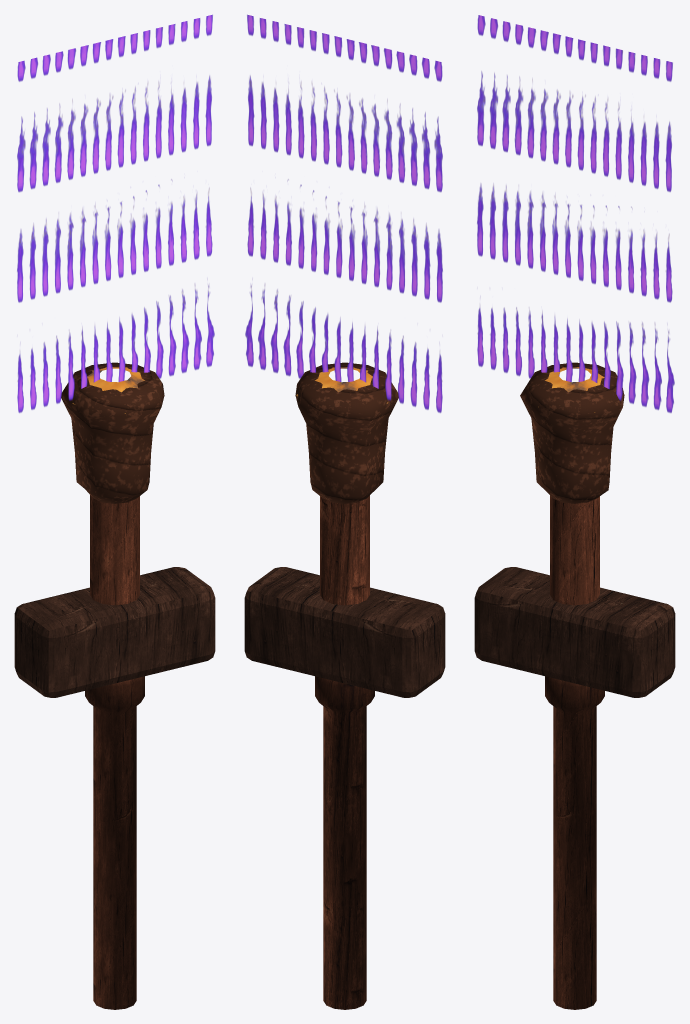
Rendered from mm7_deco_torch01_purple_free.glb.
The picture shows the model from 3 angles, left to right: view 1: azimuth 30°, elevation 25°; view 2: azimuth 150°, elevation 25°; view 3: azimuth 330°, elevation 25°; orthographic projection.
Parts seen in each view (by area): view 1: Torch01Free; view 2: Torch01Free; view 3: Torch01Free.
Part boxes in pixels (left/top/right/bottom): Torch01Free: left=14, top=14, right=215, bottom=1009; Torch01Free: left=244, top=14, right=445, bottom=1009; Torch01Free: left=474, top=15, right=675, bottom=1009.
Bounding box in the file's own units: 0.3427 × 1.57 × 0.1542.
5 materials, 5 textured.
